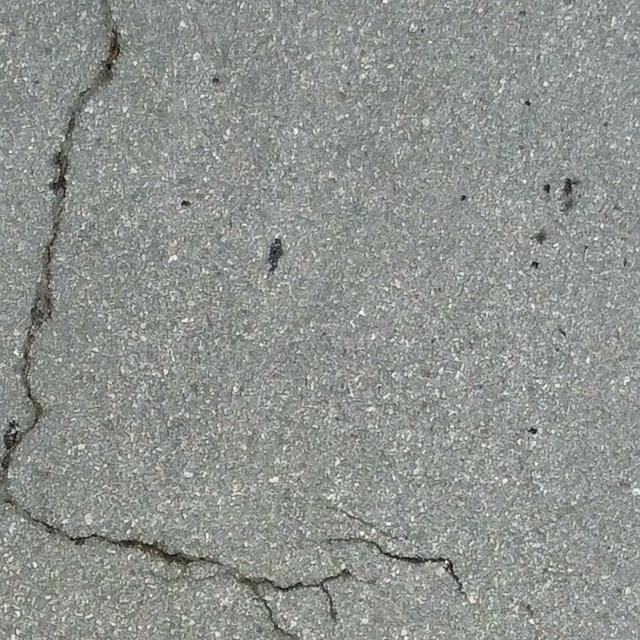LongitudinalCrack: (1, 27, 125, 489)
TransverseCrack: (2, 496, 363, 639), (326, 530, 468, 600)
